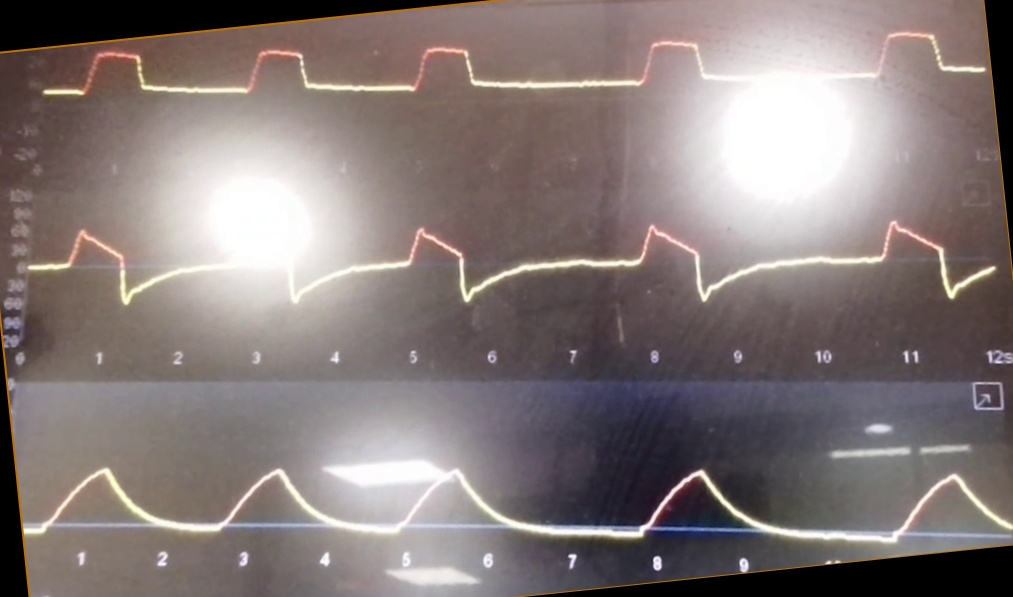Normal Flow: (30, 194, 1003, 337)
Normal Volume: (29, 435, 1013, 546)
